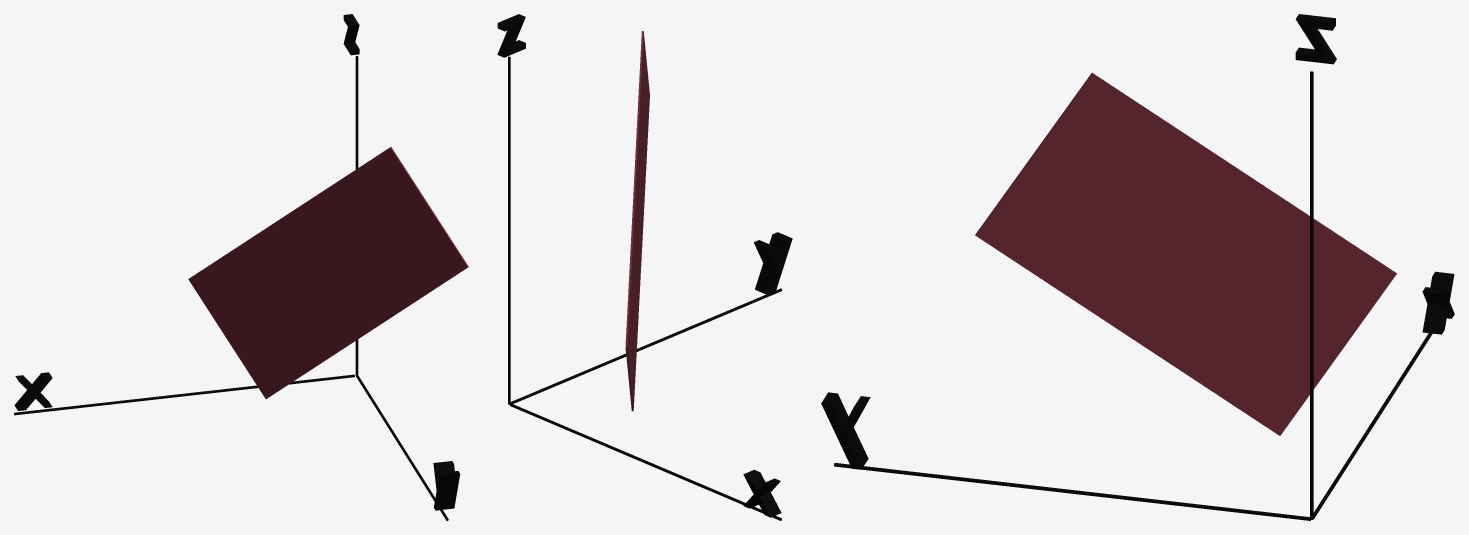
File: con1.gltf
The picture shows the model from 3 angles, left to right: view 1: azimuth 30°, elevation 25°; view 2: azimuth 150°, elevation 25°; view 3: azimuth 270°, elevation 25°; orthographic projection. The views are drawn at different scales.
Visible parts, largest first — view 1: Cube, Cylinder.002, Text, x; view 2: Cube, Cylinder.002, Text, x, Text.001; view 3: Cube, Cylinder.002, Text, x, Text.001.
Part boxes in pixels (bbox=[...]): Cube: bbox=[188, 147, 468, 398]; Cylinder.002: bbox=[14, 56, 448, 520]; Text: bbox=[433, 461, 459, 510]; x: bbox=[14, 372, 52, 410]; Cube: bbox=[625, 31, 649, 411]; Cylinder.002: bbox=[508, 56, 782, 520]; Text: bbox=[754, 232, 792, 295]; x: bbox=[743, 470, 781, 517]; Text.001: bbox=[497, 14, 525, 57]; Cube: bbox=[975, 73, 1396, 435]; Cylinder.002: bbox=[834, 71, 1432, 520]; Text: bbox=[821, 392, 870, 469]; x: bbox=[1422, 271, 1454, 334]; Text.001: bbox=[1295, 14, 1336, 64].
Bounding box in the file's own units: 0.6405 × 0.728 × 0.8369.
